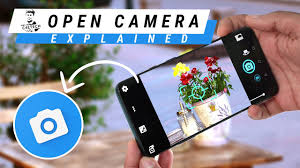camera: (239, 57, 258, 77)
